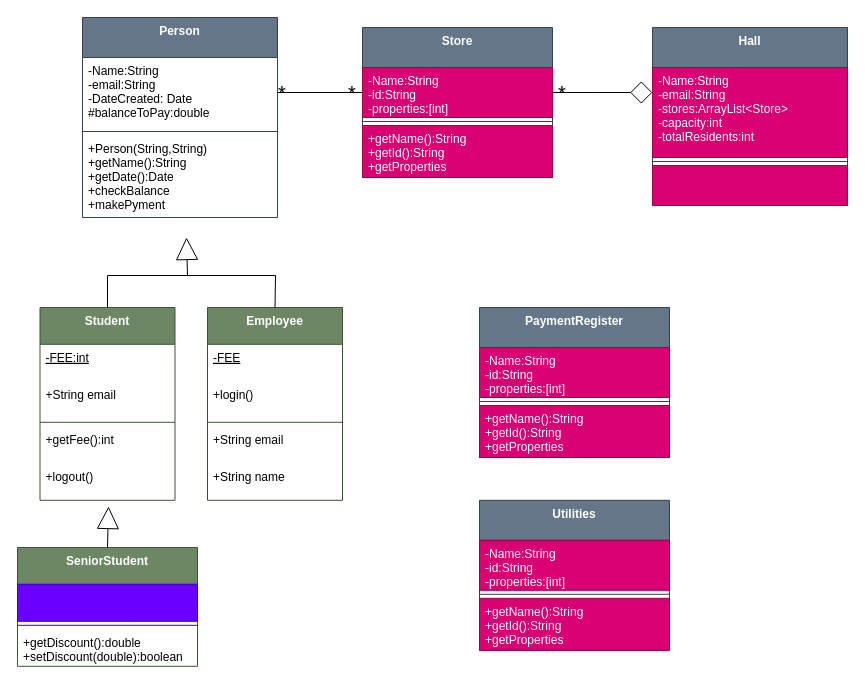
Some shapes in this 865 by 687 pixel diagram are drawn without their labels. The centre of each missing label's shape, as x and y in pixels:
+getName():String +getDate():Date: pixel 750 185
-discount:double: pixel 107 602
